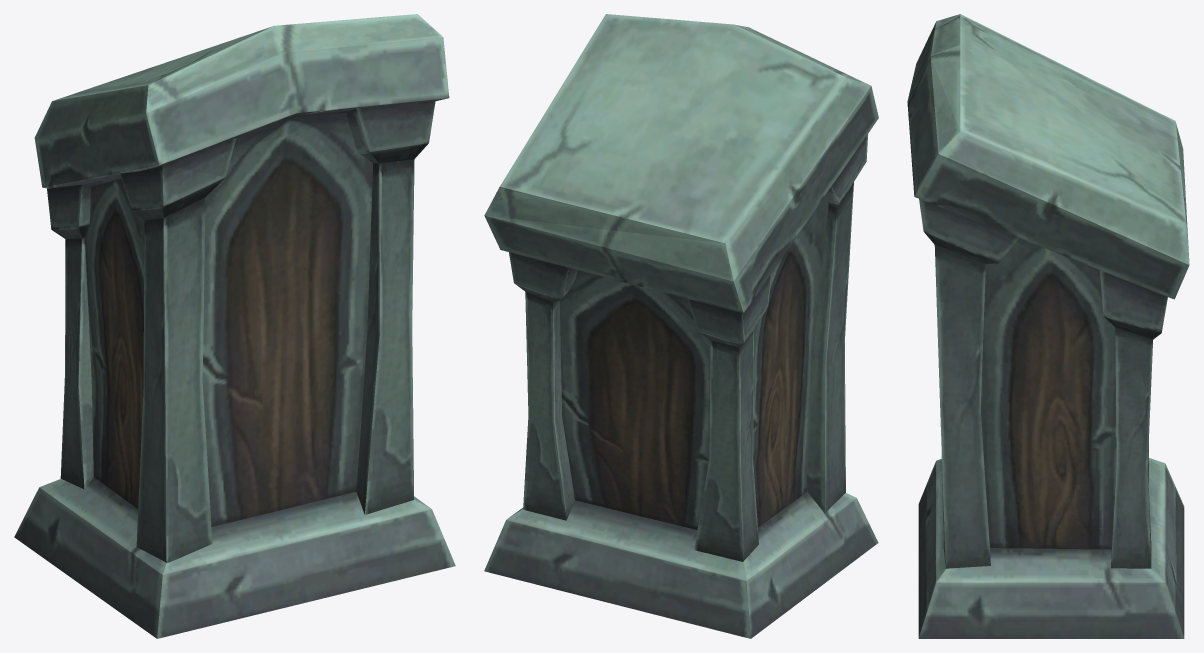
Rendered from crypt_lectern01.fbx.
3 views of the same model, side by side, from view 1: azimuth 30°, elevation 25°; view 2: azimuth 150°, elevation 25°; view 3: azimuth 270°, elevation 25° (orthographic). The views are drawn at different scales.
Visible parts, largest first — view 1: tomb_stonework; view 2: tomb_stonework; view 3: tomb_stonework.
Boxes of the visible parts, left/top/right/bottom form: tomb_stonework: left=14, top=14, right=455, bottom=638; tomb_stonework: left=484, top=14, right=878, bottom=638; tomb_stonework: left=907, top=14, right=1189, bottom=638.
Size of the model in its own units: 1.03 by 1.86 by 0.9045.
